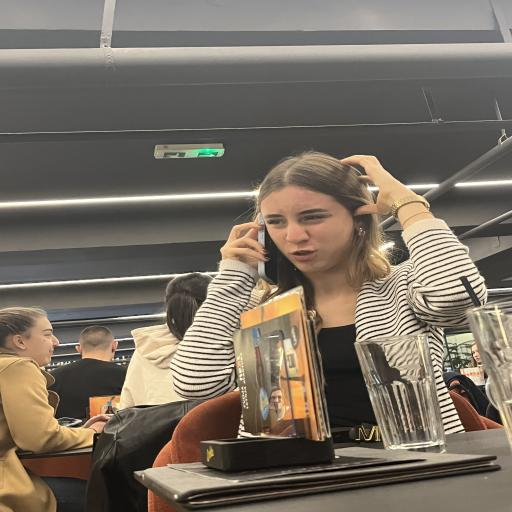masa: (261, 185, 365, 273)
